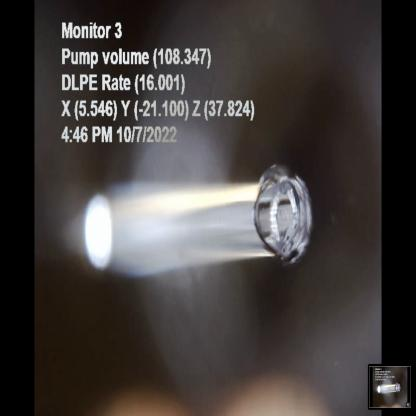Droplet: (254, 167, 315, 270)
